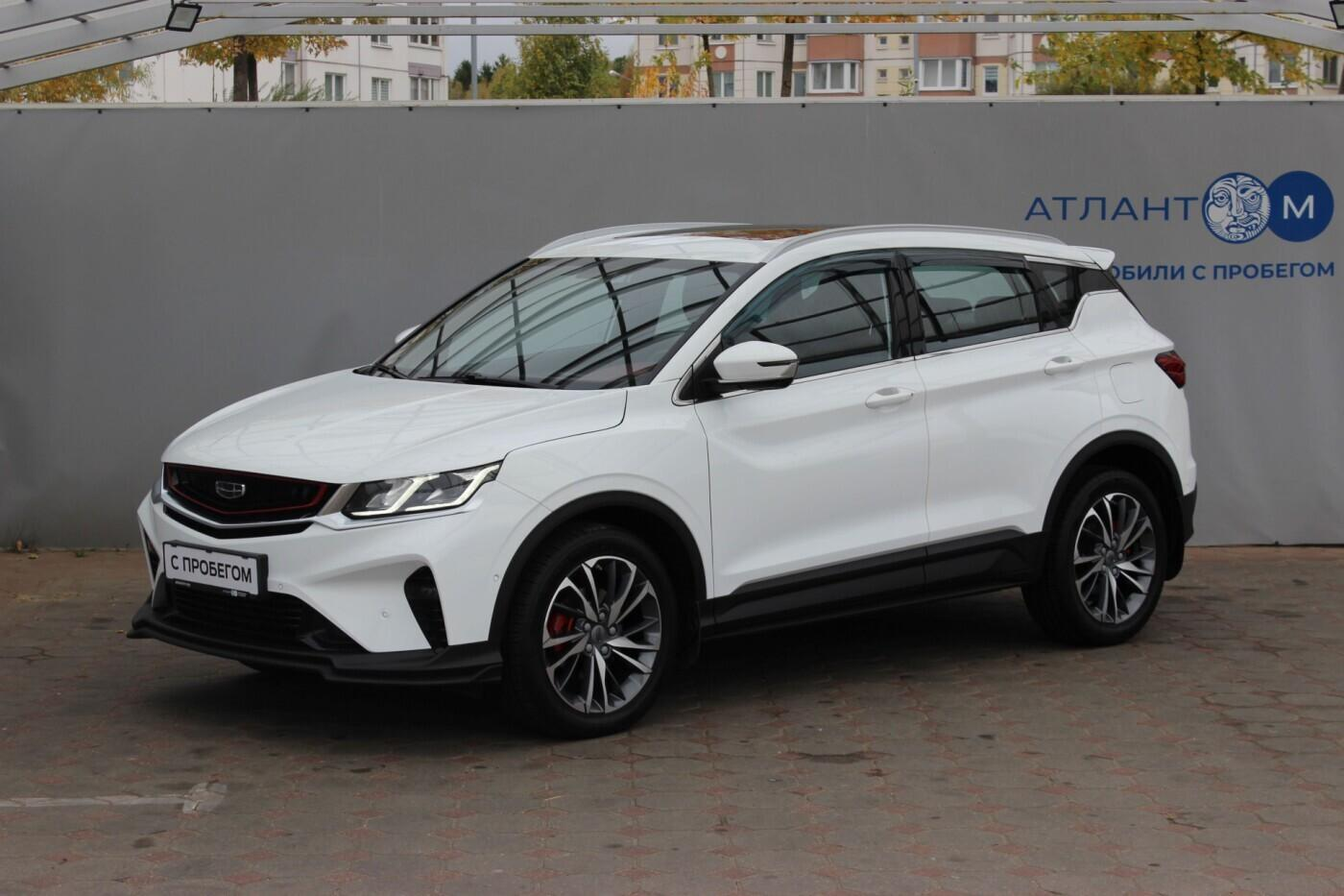Coolray_2019-2023: (122, 220, 1199, 729)
